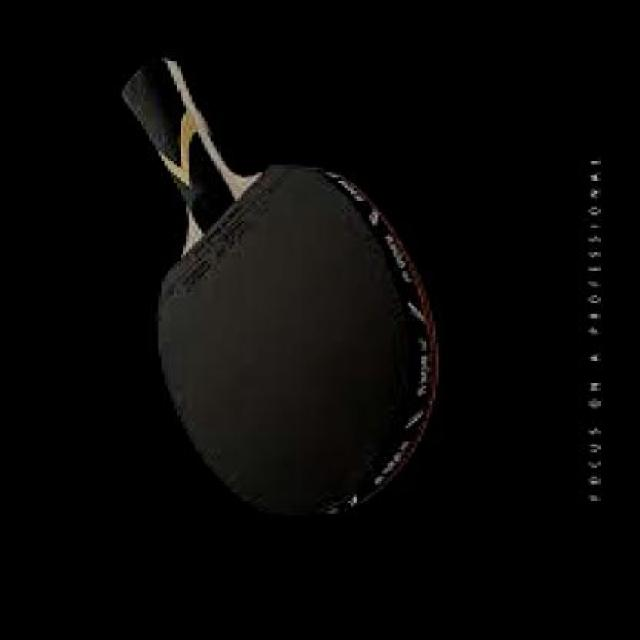table_tennis_racket: (122, 55, 442, 525)
